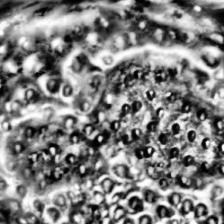Anthracnose Fruit Rot: (0, 48, 224, 198)
